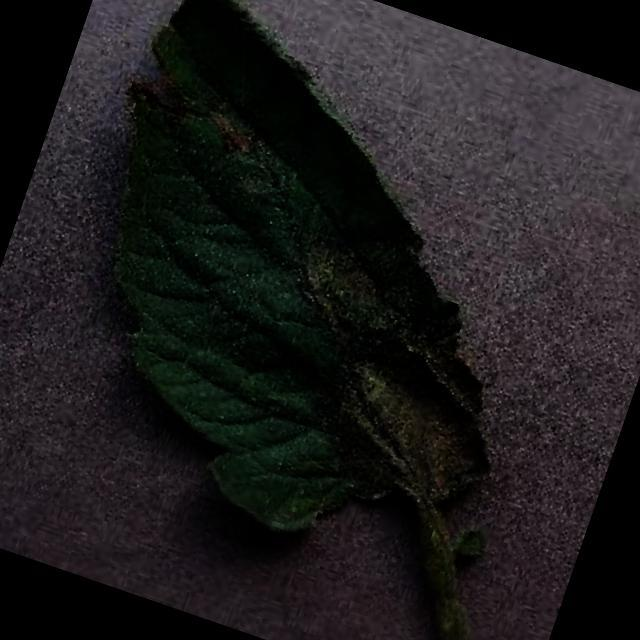Tomato late blight leaf: (10, 0, 618, 594)
